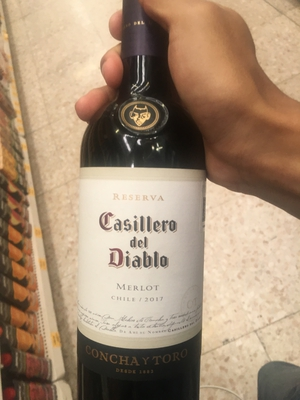casillero del diablo merlot: (70, 32, 209, 400)
